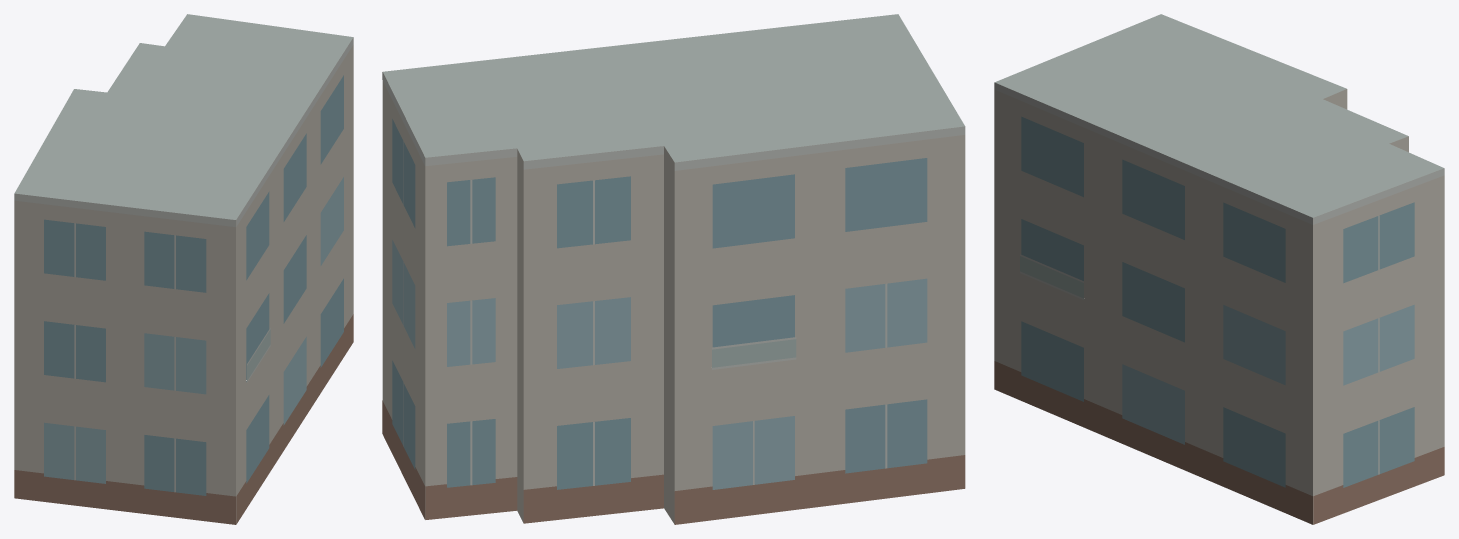
The model's file is survey-upis-32625836.glb.
3 views of the same model, side by side, from view 1: azimuth 30°, elevation 25°; view 2: azimuth 150°, elevation 25°; view 3: azimuth 270°, elevation 25° (orthographic). The views are drawn at different scales.
Parts seen in each view (by area): view 1: survey-upis-32625836.tmp; view 2: survey-upis-32625836.tmp; view 3: survey-upis-32625836.tmp.
Part boxes in pixels (<box>): survey-upis-32625836.tmp: <box>14,14,353,524</box>; survey-upis-32625836.tmp: <box>382,14,965,524</box>; survey-upis-32625836.tmp: <box>994,14,1444,524</box>.
Size of the model in its own units: 14.96 by 10.5 by 13.96.
